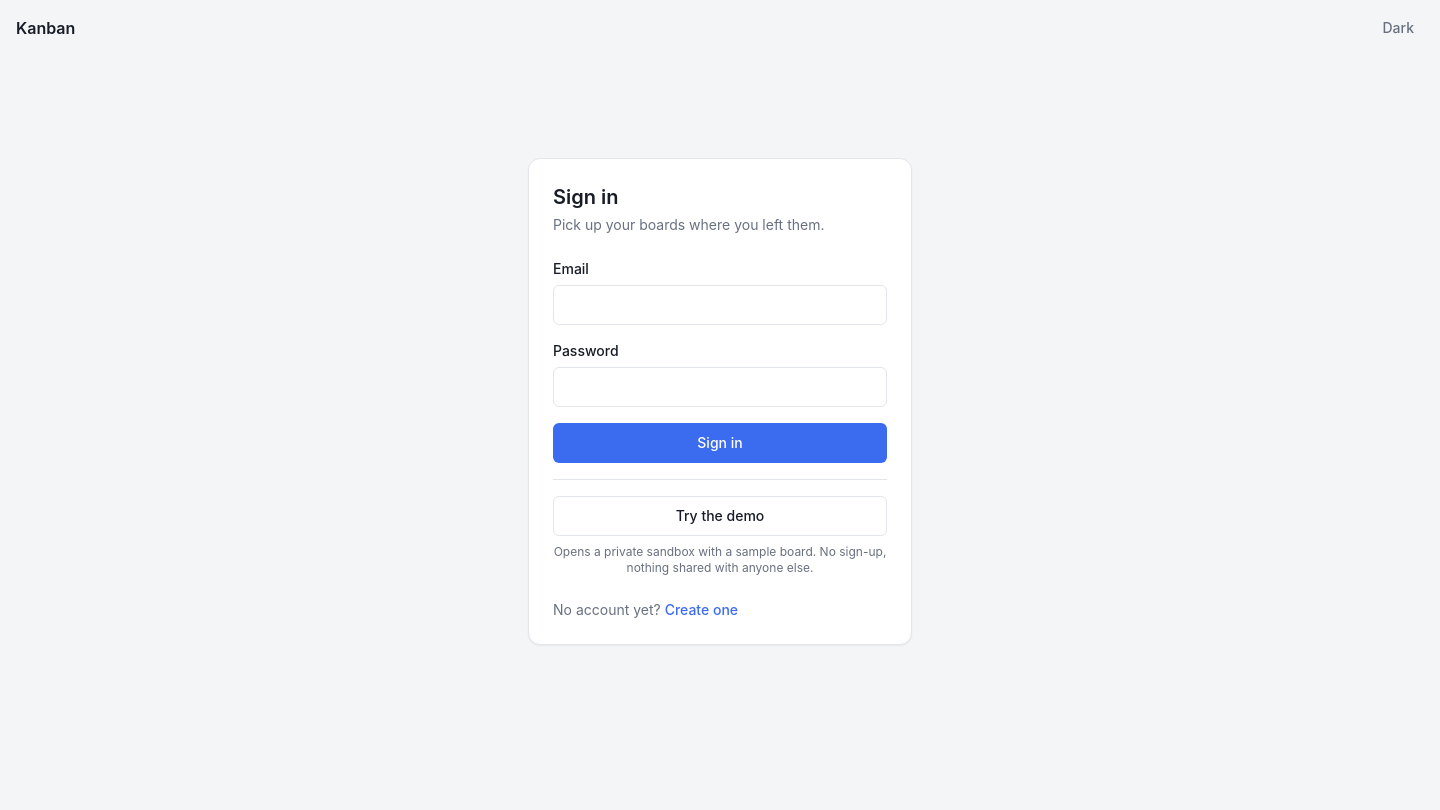
LoginPage › shows the server message when the credentials are rejected
In the field labelled "Email": (720, 304) left=553, top=284, right=887, bottom=324, type "grace@example.com"
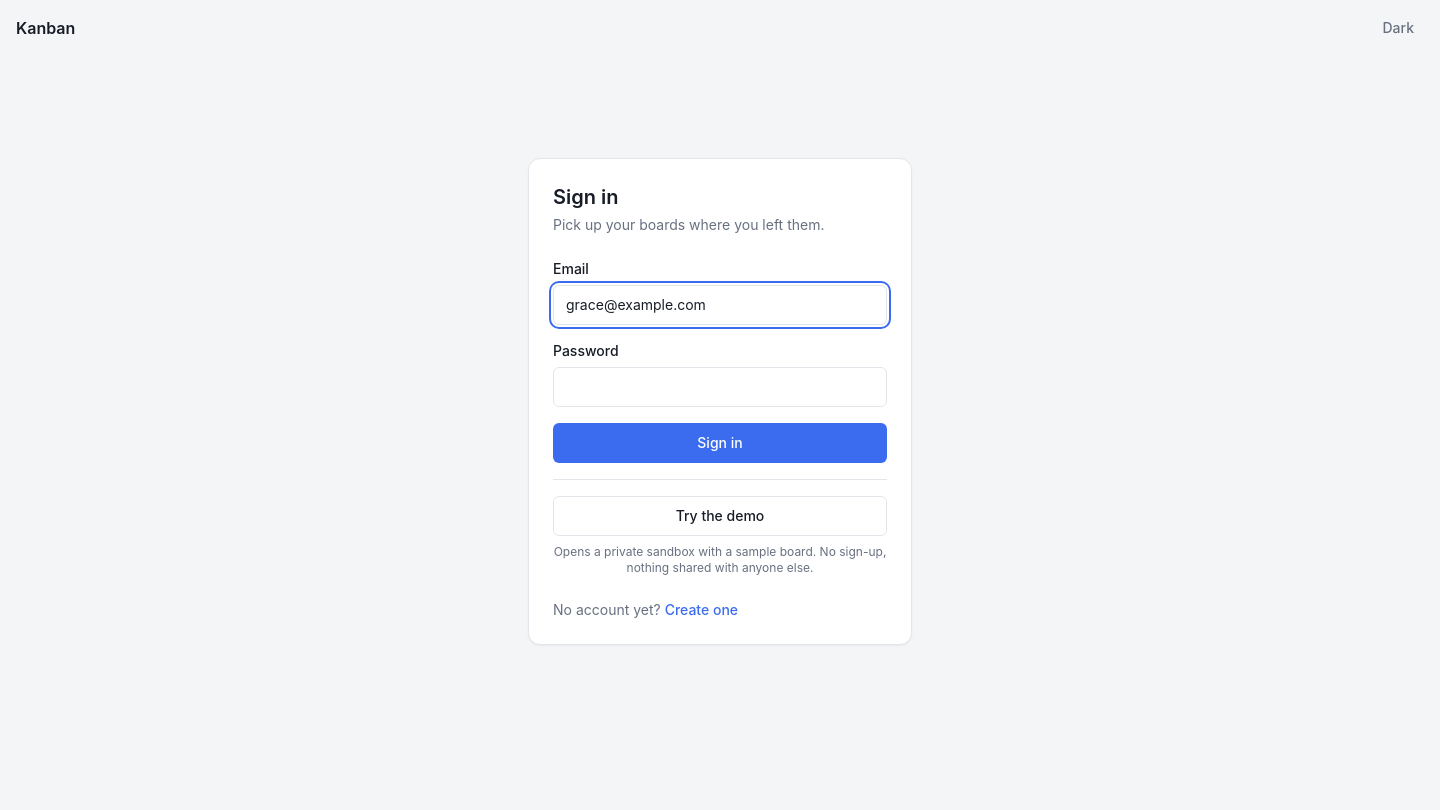
In the password field labelled "Password": (720, 386) left=553, top=366, right=887, bottom=406, type "wrong-password"
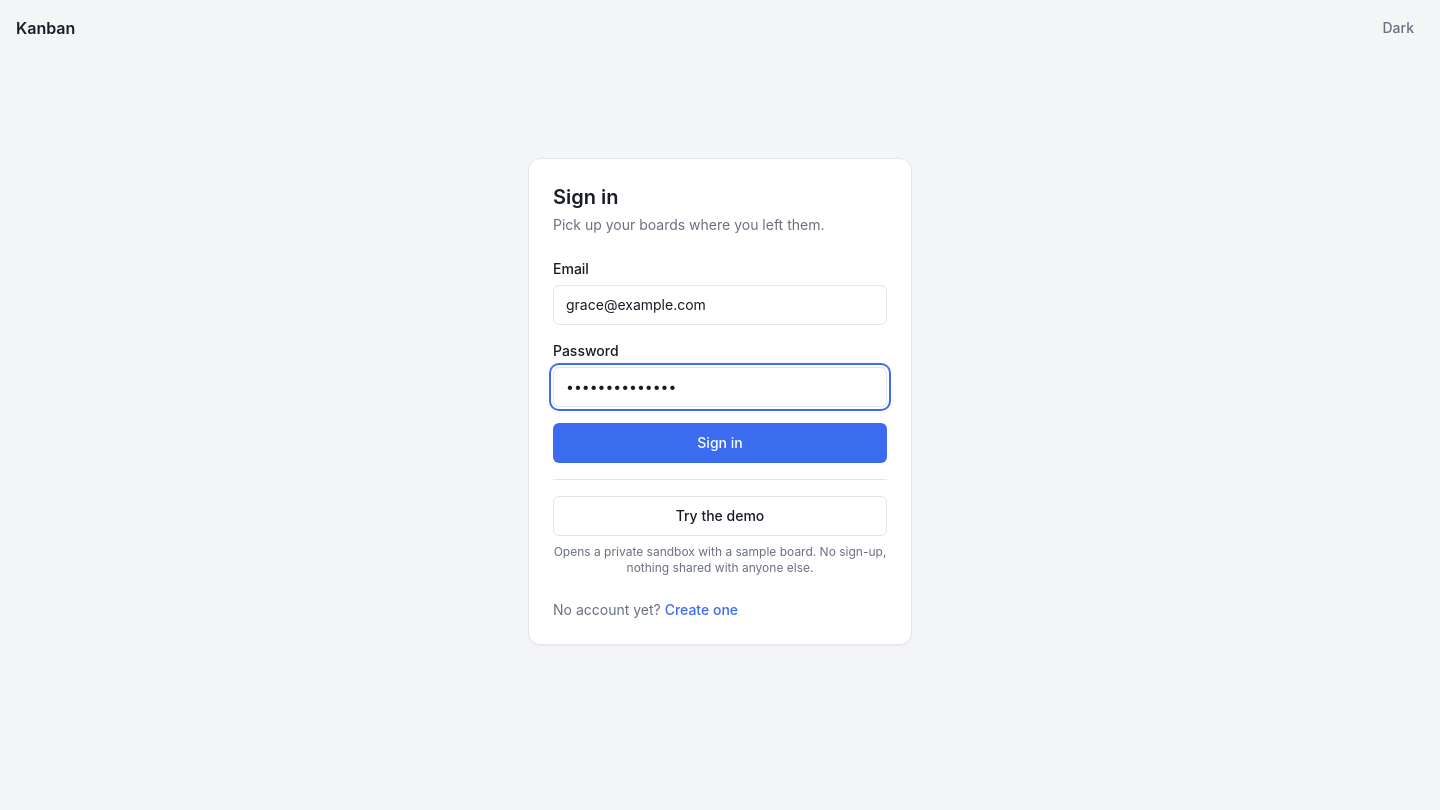
Click the button "Sign in": (720, 442) left=553, top=422, right=887, bottom=462
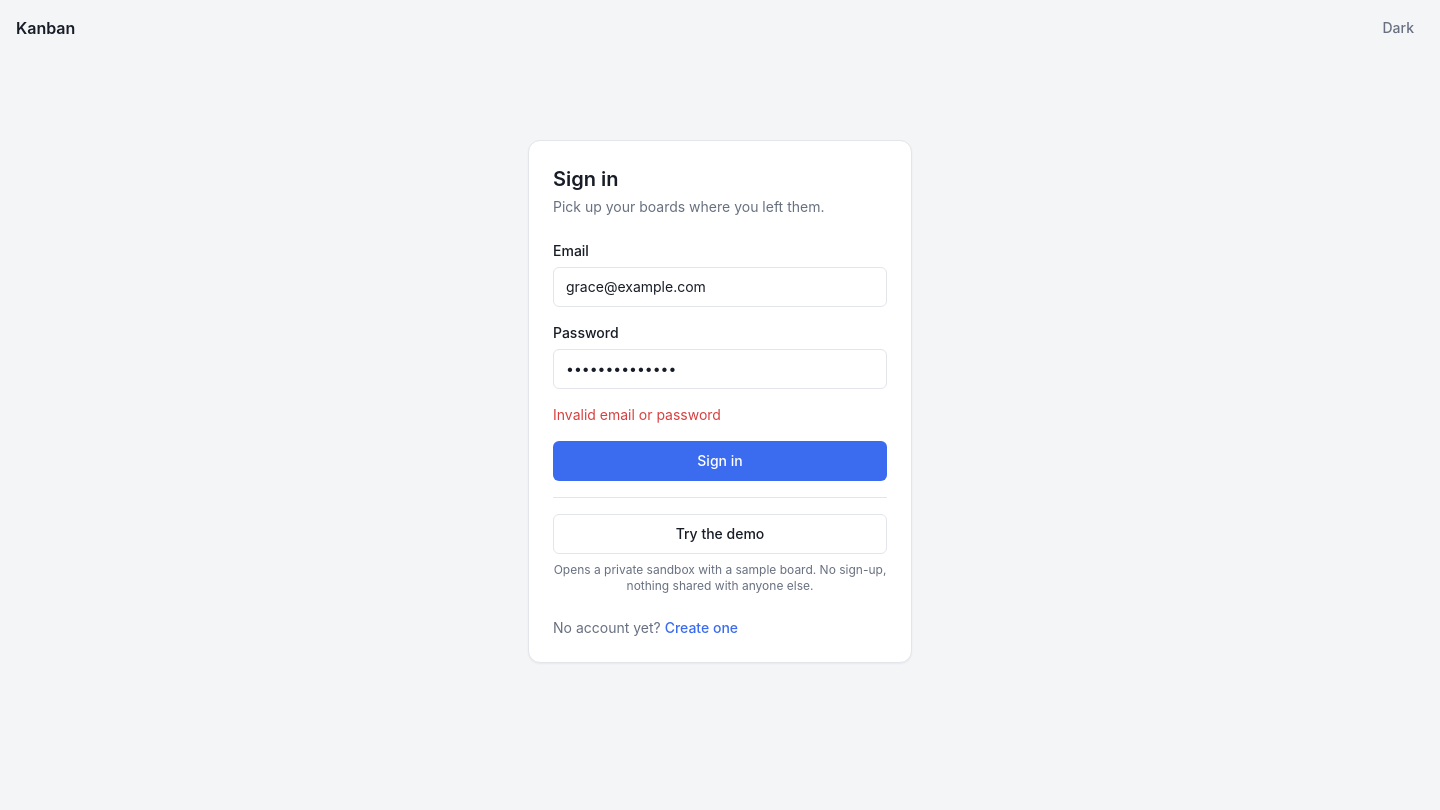
Expected: the message reads "Invalid email or password", left=553, top=406, right=721, bottom=422
